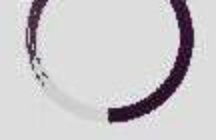ProgressBar: (1, 1, 215, 139)
